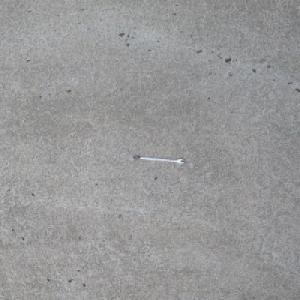Wrench: (130, 155, 185, 164)
